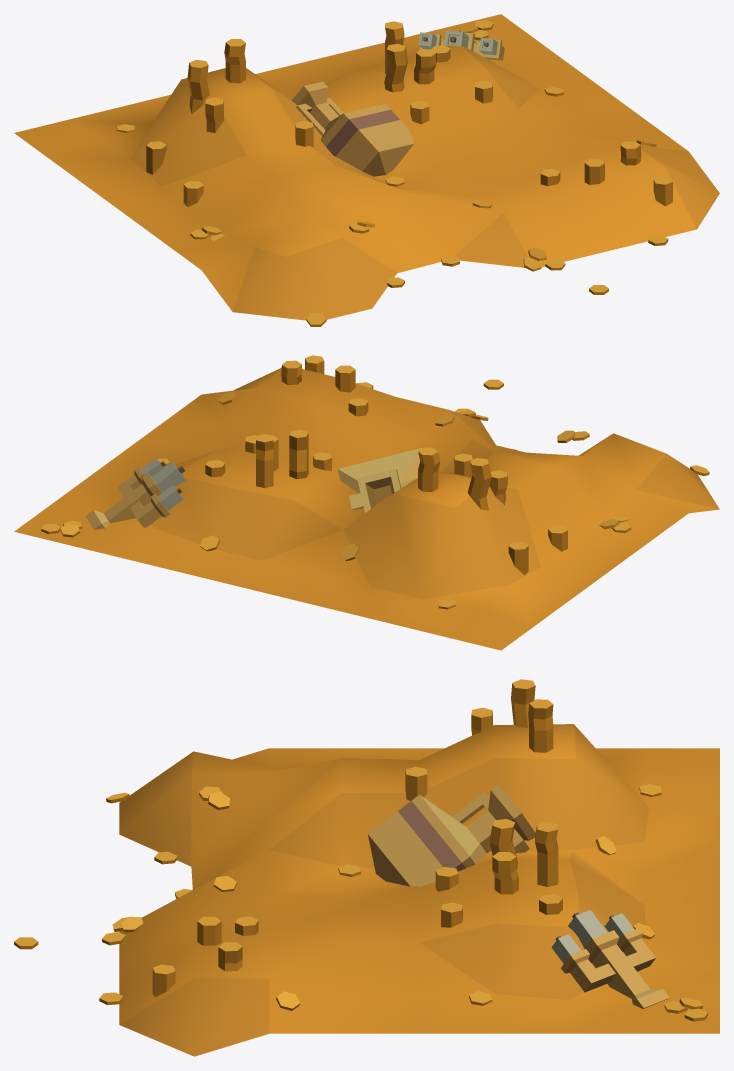
The model's file is ST_Env_Gold_Edge_01.fbx.
3 renders of one model, top to bottom at view 1: azimuth 30°, elevation 25°; view 2: azimuth 150°, elevation 25°; view 3: azimuth 270°, elevation 25°, orthographic. The views are drawn at different scales.
Parts seen in each view (by area): view 1: ST_Env_Gold_Edge_01; view 2: ST_Env_Gold_Edge_01; view 3: ST_Env_Gold_Edge_01.
Part boxes in pixels (x1,y1,x2,y2): ST_Env_Gold_Edge_01: [14, 14, 719, 326]; ST_Env_Gold_Edge_01: [14, 355, 719, 650]; ST_Env_Gold_Edge_01: [14, 679, 719, 1056].
Size of the model in its own units: 5 by 1.71 by 5.22.
